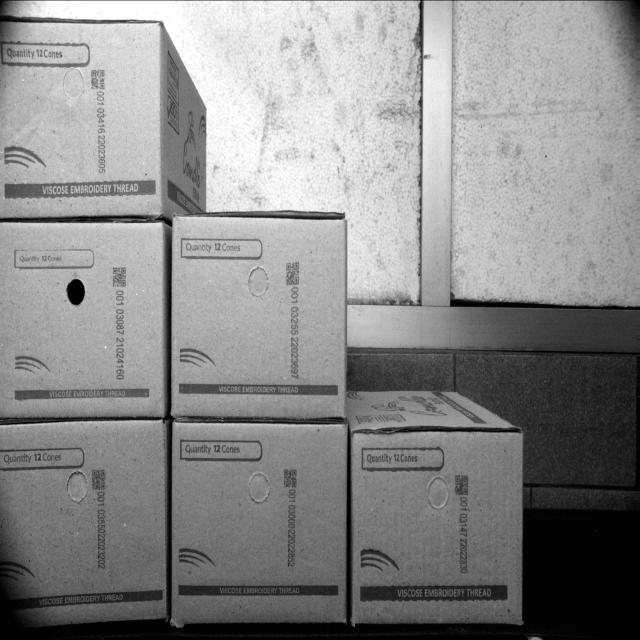cardboxes: (170, 214, 343, 422), (178, 423, 346, 632), (3, 426, 168, 632), (356, 435, 529, 626), (0, 14, 161, 215), (4, 223, 168, 416)
